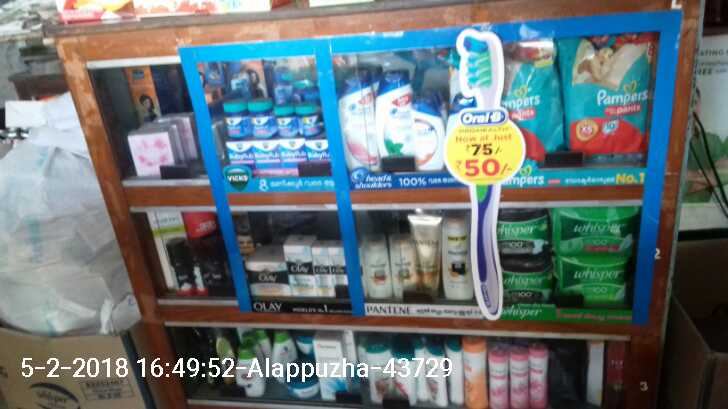vicks: (221, 83, 329, 184)
